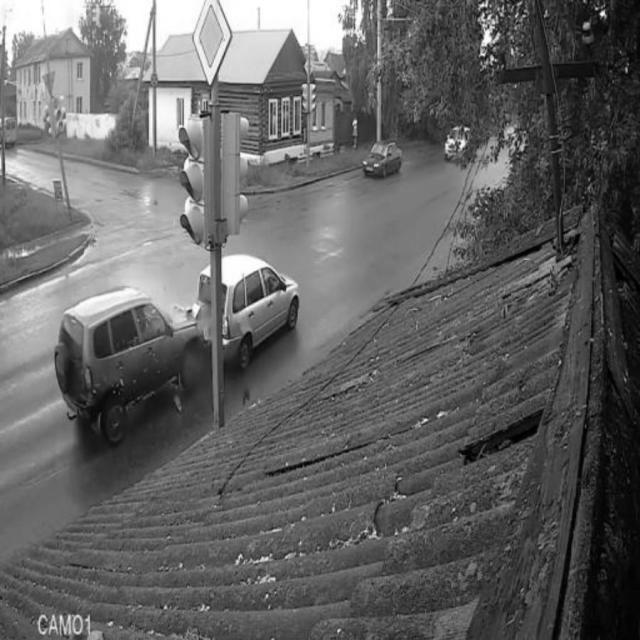accident: (56, 251, 302, 447)
vehicle: (360, 135, 405, 181), (441, 119, 475, 164), (0, 114, 20, 151)
